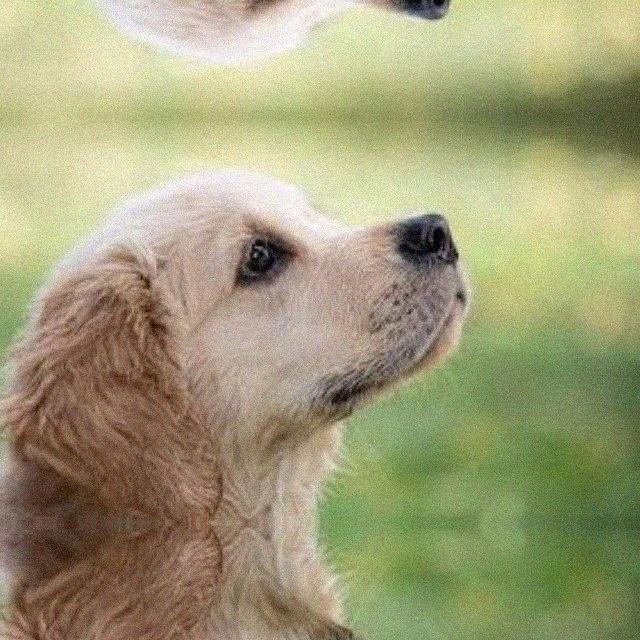dog: (0, 140, 478, 522), (0, 522, 478, 640), (0, 0, 478, 92)
